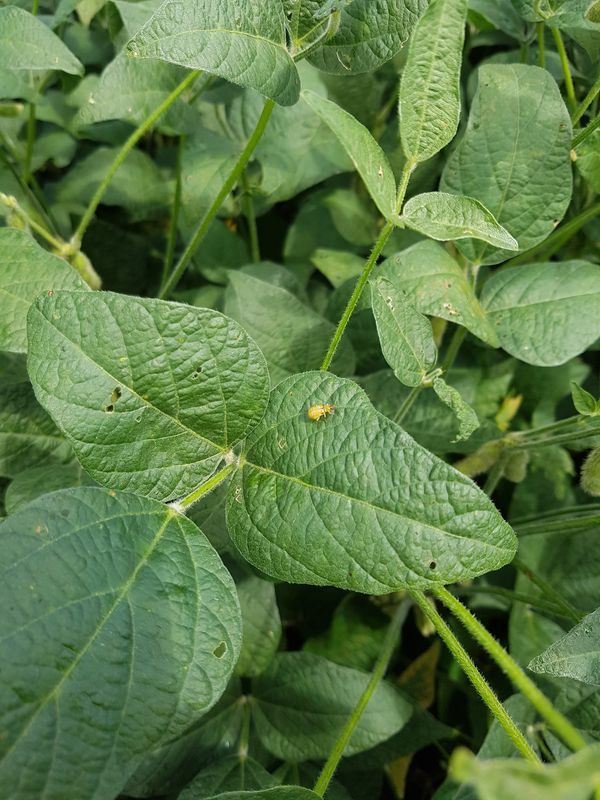Diabrotica_speciosa: (296, 395, 341, 429)
